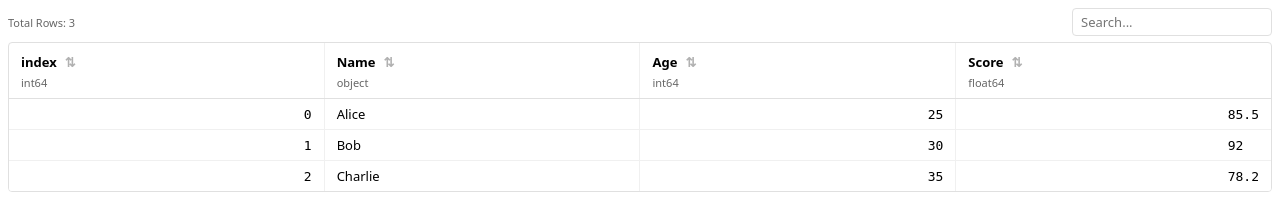
Test: MitoViewer › cycles through sort directions
The image size is (1280, 209).
Expected: the column heading "Name" is shown, x1=337 y1=53 x2=376 y2=71
// First click - ascending
Click the icon with class "mito-viewer__sort-icon-container" next to "Name": (389, 62) x1=384 y1=53 x2=394 y2=71
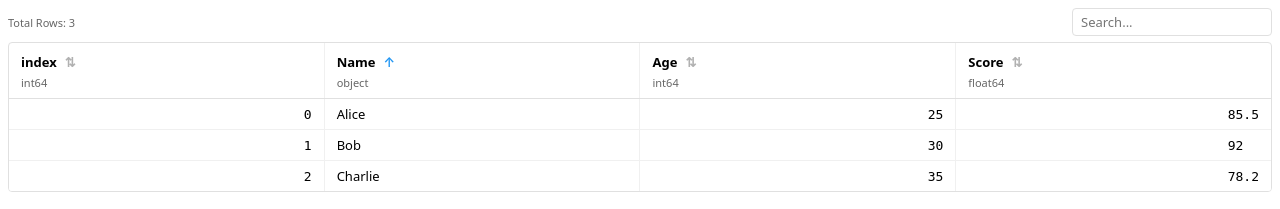
Expected: the column heading "Name" is shown, x1=337 y1=53 x2=376 y2=71
Expected: the icon "↑" is shown
// Second click - descending
Click the icon with class "mito-viewer__sort-icon-container" showing "↑": (389, 62) x1=384 y1=53 x2=395 y2=71
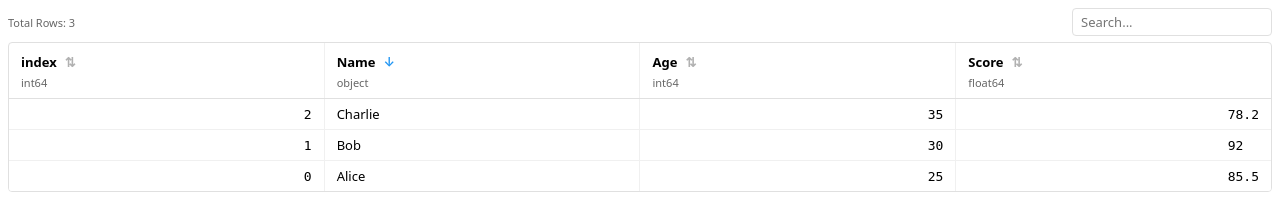
Expected: the column heading "Name" is shown, x1=337 y1=53 x2=376 y2=71
Expected: the icon "↓" is shown
// Third click - no sort
Click the icon with class "mito-viewer__sort-icon-container" showing "↓": (389, 62) x1=384 y1=53 x2=395 y2=71
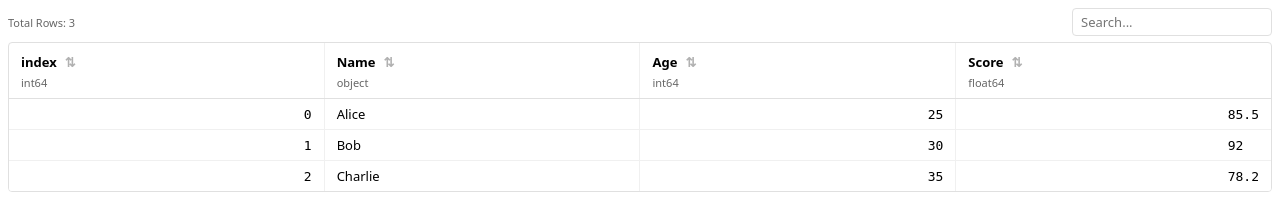
Expected: the icon "↑" is not shown
Expected: the icon "↓" is gone
